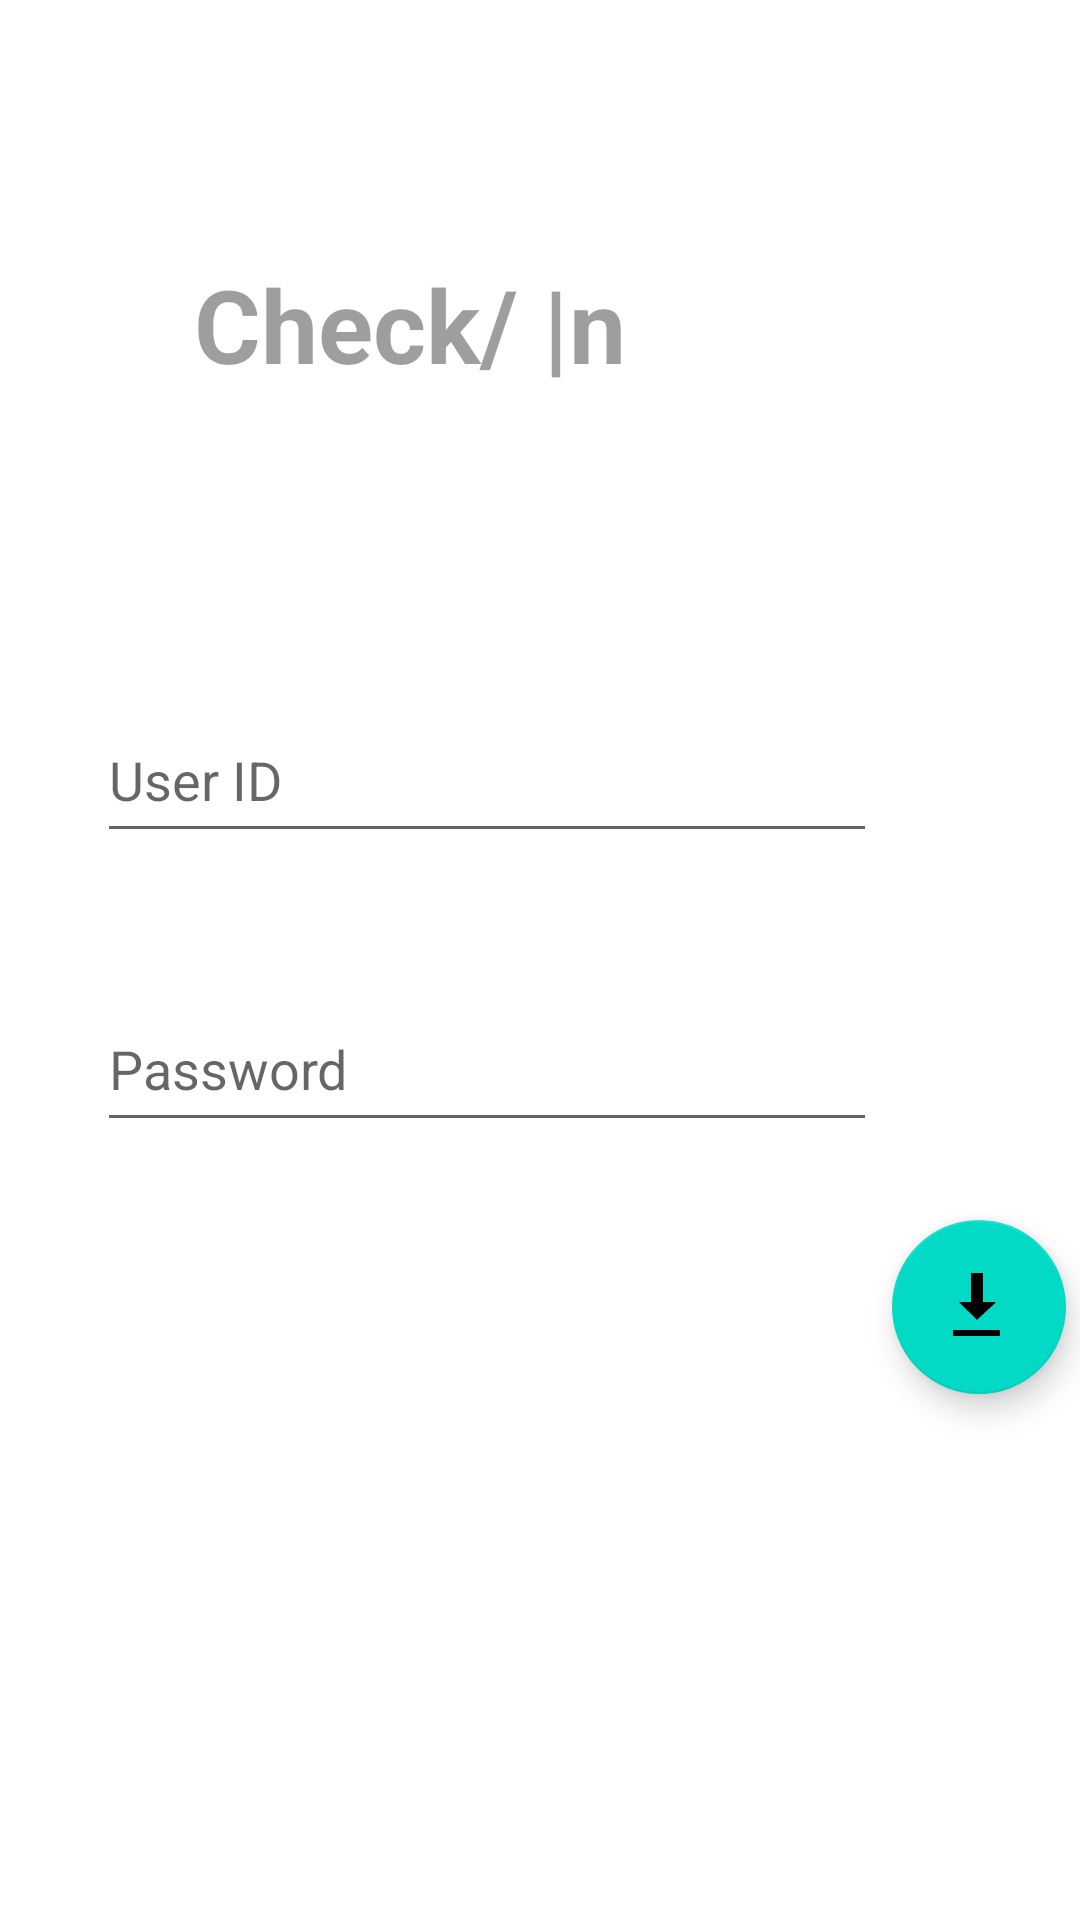

Icons on this 1080 × 1920 Android screen, each with the point to tap as [x,y]:
download done: [979,1307]
